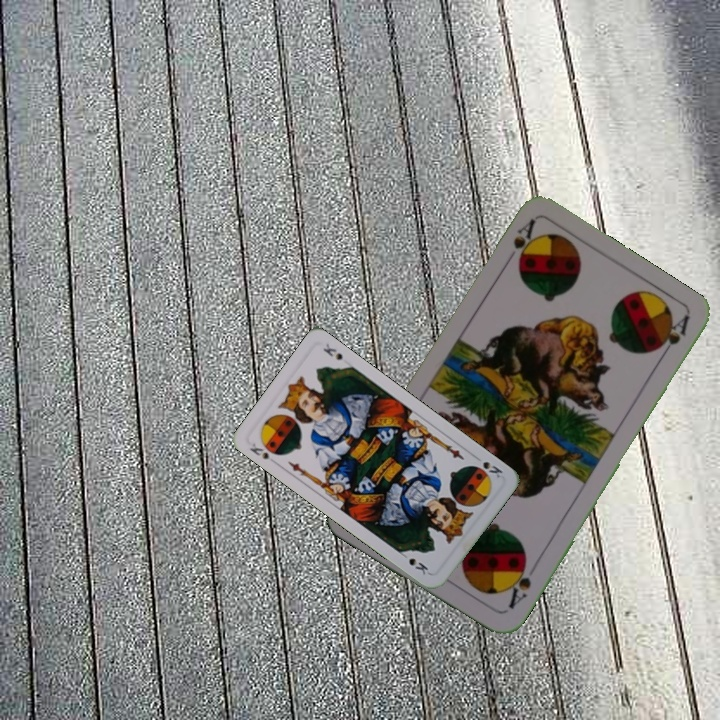SA: (502, 215, 543, 272), (502, 557, 534, 612)
SK: (470, 451, 505, 481), (245, 439, 280, 466)
